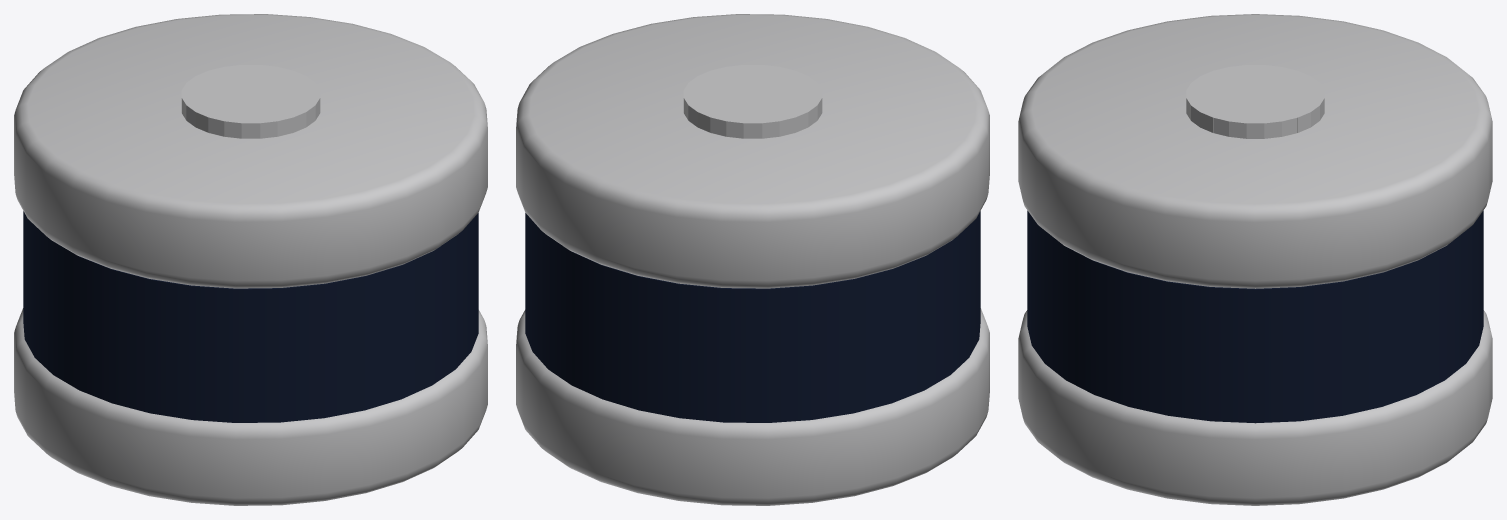
Rendered from lidar.glb.
3 views of the same model, side by side, from view 1: azimuth 30°, elevation 25°; view 2: azimuth 150°, elevation 25°; view 3: azimuth 270°, elevation 25° (orthographic).
Visible parts, largest first — view 1: lidar; view 2: lidar; view 3: lidar.
Part boxes in pixels (x1,y1,x2,y2): lidar: [14, 14, 487, 505]; lidar: [516, 14, 989, 505]; lidar: [1018, 14, 1492, 505].
Size of the model in its own units: 0.103 by 0.0757 by 0.103.
